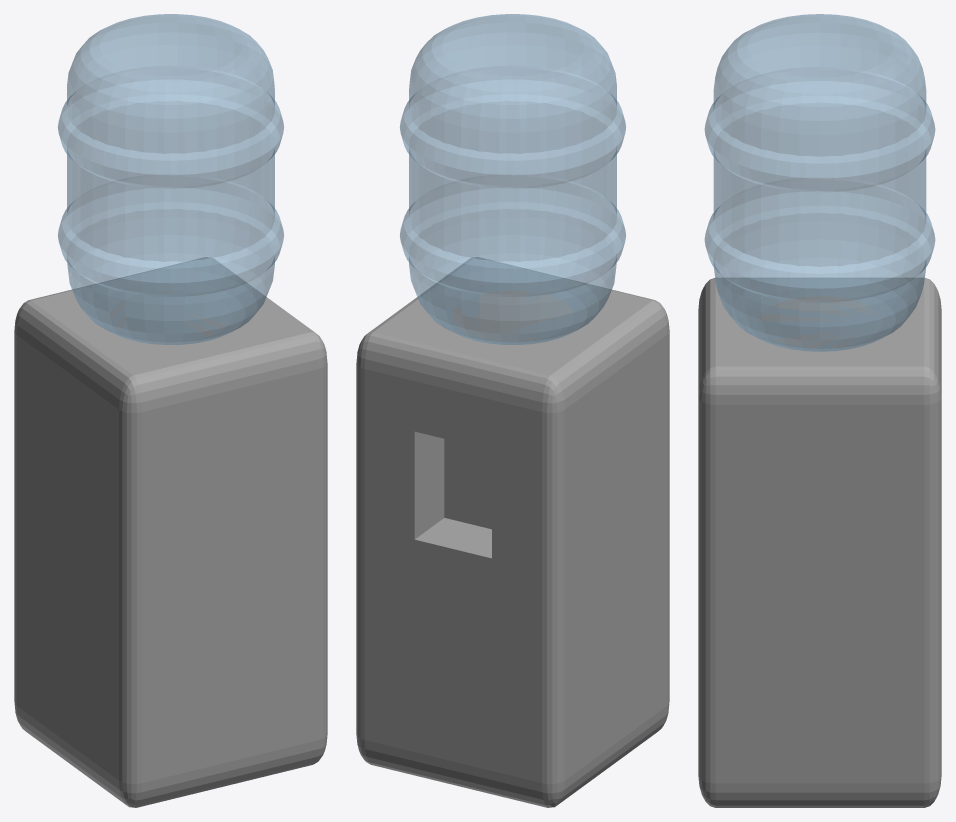
Rendered from Water Cooler.fbx.
3 views of the same model, side by side, from view 1: azimuth 30°, elevation 25°; view 2: azimuth 150°, elevation 25°; view 3: azimuth 270°, elevation 25° (orthographic).
Parts seen in each view (by area): view 1: Base, Water Tower; view 2: Base, Water Tower; view 3: Base, Water Tower.
Boxes of the visible parts, x1=… form: Base: x1=14, y1=257, x2=327, y2=807; Water Tower: x1=58, y1=14, x2=283, y2=344; Base: x1=356, y1=257, x2=669, y2=807; Water Tower: x1=400, y1=14, x2=625, y2=344; Base: x1=698, y1=278, x2=941, y2=807; Water Tower: x1=704, y1=14, x2=935, y2=351.
Size of the model in its own units: 100 by 325 by 100.
